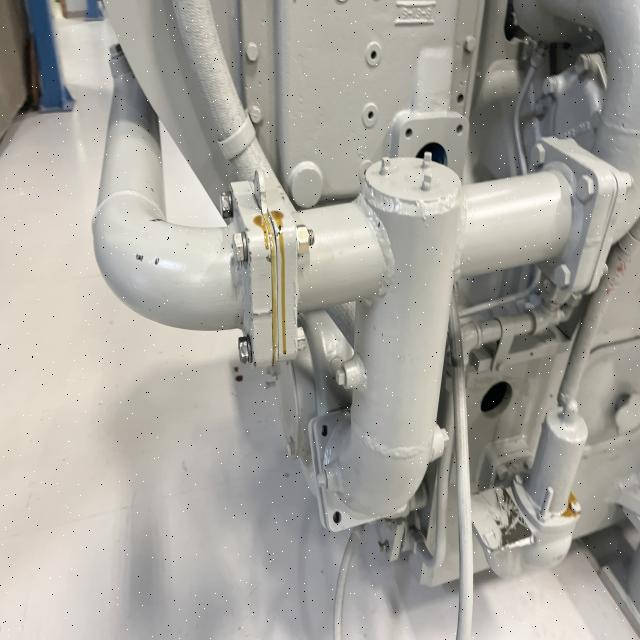Oil Leak: (253, 210, 287, 365), (559, 490, 581, 518)
